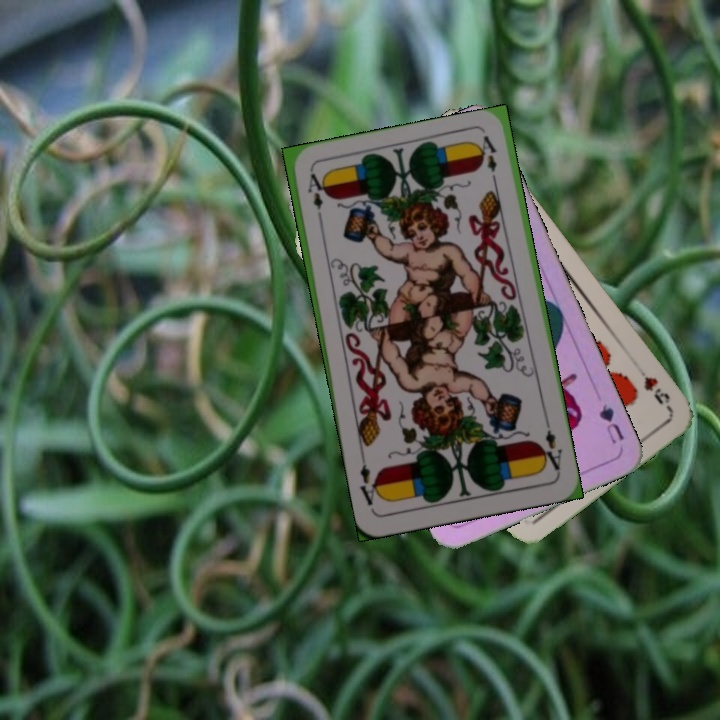EA: (537, 417, 565, 476), (303, 169, 326, 227)
GU: (595, 400, 627, 447)
H9: (631, 361, 673, 413)
